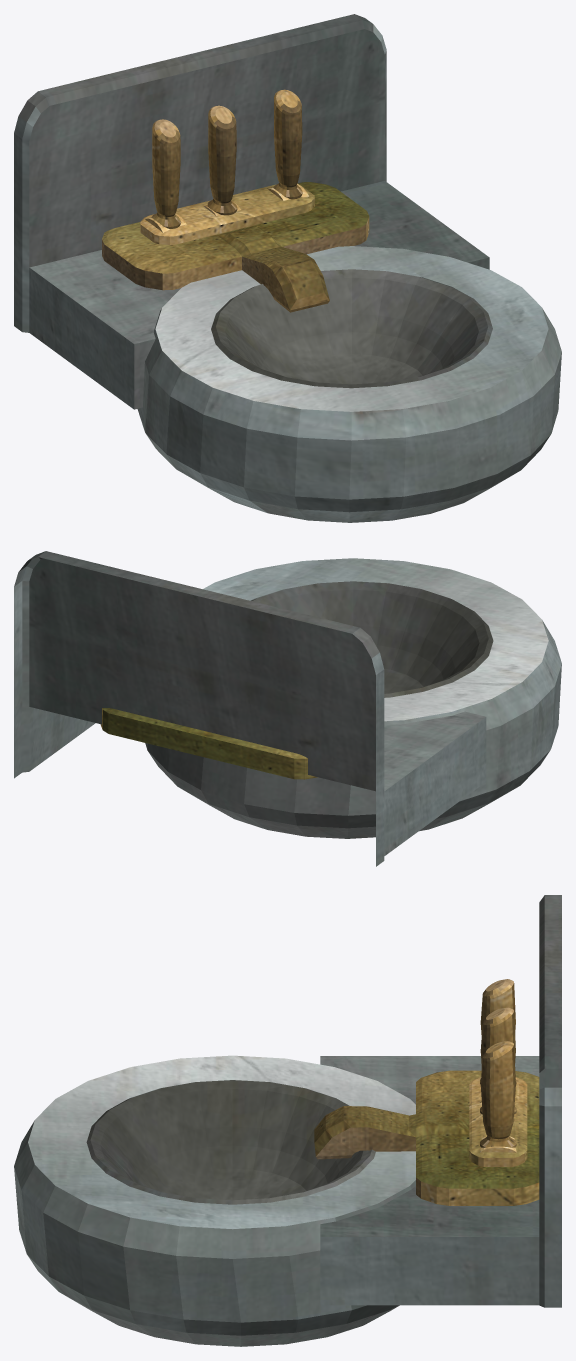
File: stateroom_Sink.fbx
3 views of the same model, one above another, from view 1: azimuth 30°, elevation 25°; view 2: azimuth 150°, elevation 25°; view 3: azimuth 270°, elevation 25° (orthographic). The views are drawn at different scales.
Visible parts, largest first — view 1: polySurface12, polySurface8; view 2: polySurface12, polySurface8; view 3: polySurface12, polySurface8.
Part boxes in pixels (<box>): polySurface12: <box>14,14,561,522</box>; polySurface8: <box>102,89,369,312</box>; polySurface12: <box>14,551,561,866</box>; polySurface8: <box>100,708,317,779</box>; polySurface12: <box>14,895,561,1346</box>; polySurface8: <box>314,979,539,1205</box>.
Size of the model in its own units: 803 by 996 by 663.
